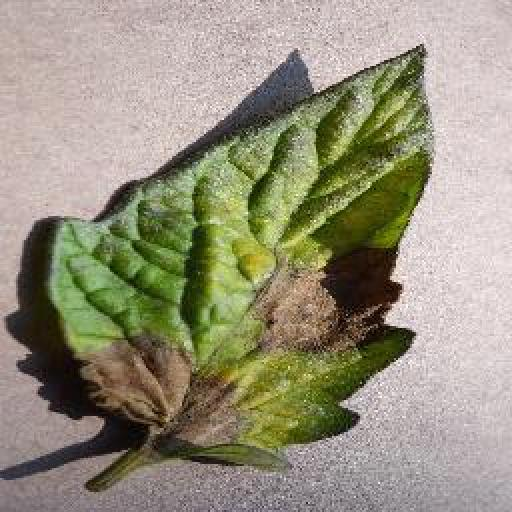disease_tomato: (49, 40, 435, 466)
